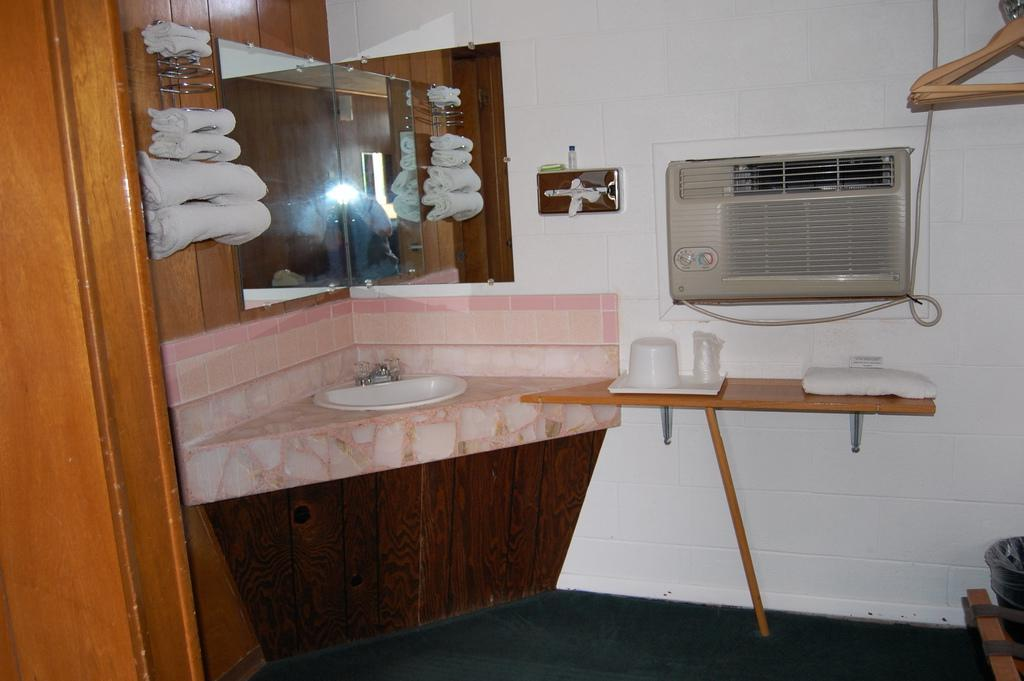door: (1, 1, 115, 681)
